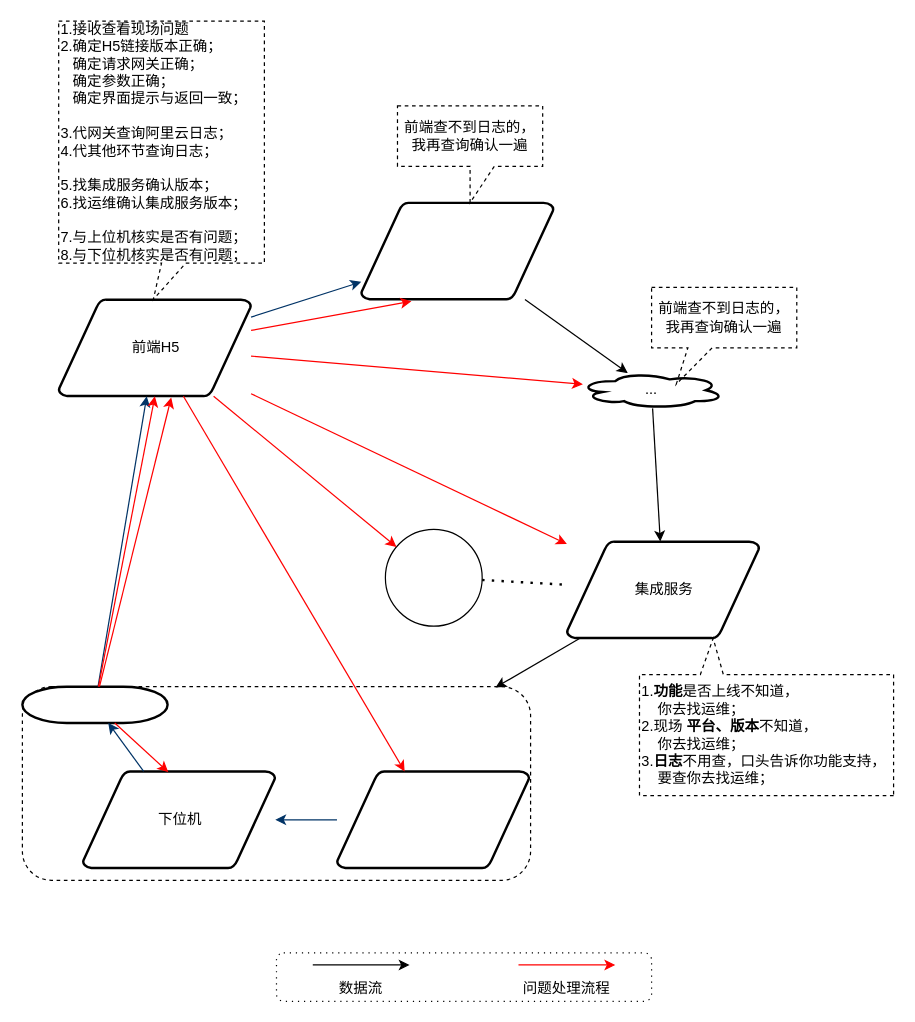
Some shapes in this 915 by 1022 pixel diagram are drawn without their labels. The shapes that lost their labels are listed below. From the top down, each one's centre as x and y in pixels, then its label:
[456,250]: 网关
[433,577]: 运维
[94,704]: 现场
[432,819]: 上位机
